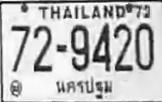0: (134, 22, 153, 70)
2: (32, 24, 51, 72), (114, 24, 132, 72)
4: (92, 22, 110, 70)
7: (10, 24, 30, 71)
9: (70, 24, 88, 70)
NPT: (49, 75, 117, 100)
